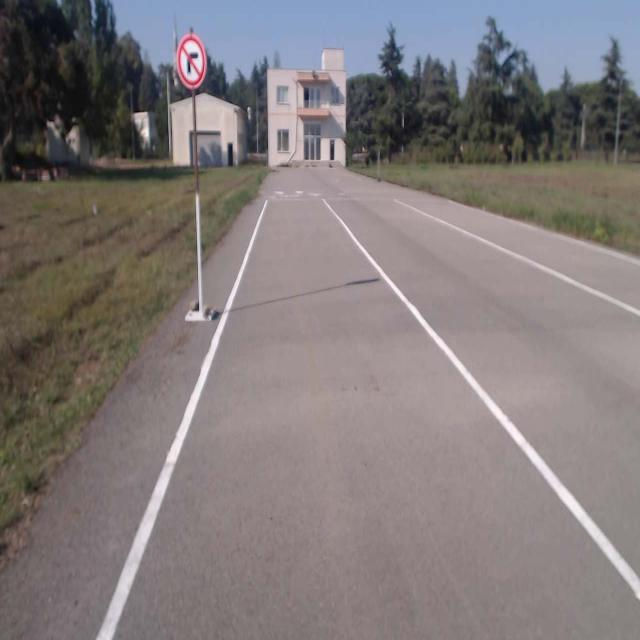sagadonulmez: (175, 34, 205, 86)
